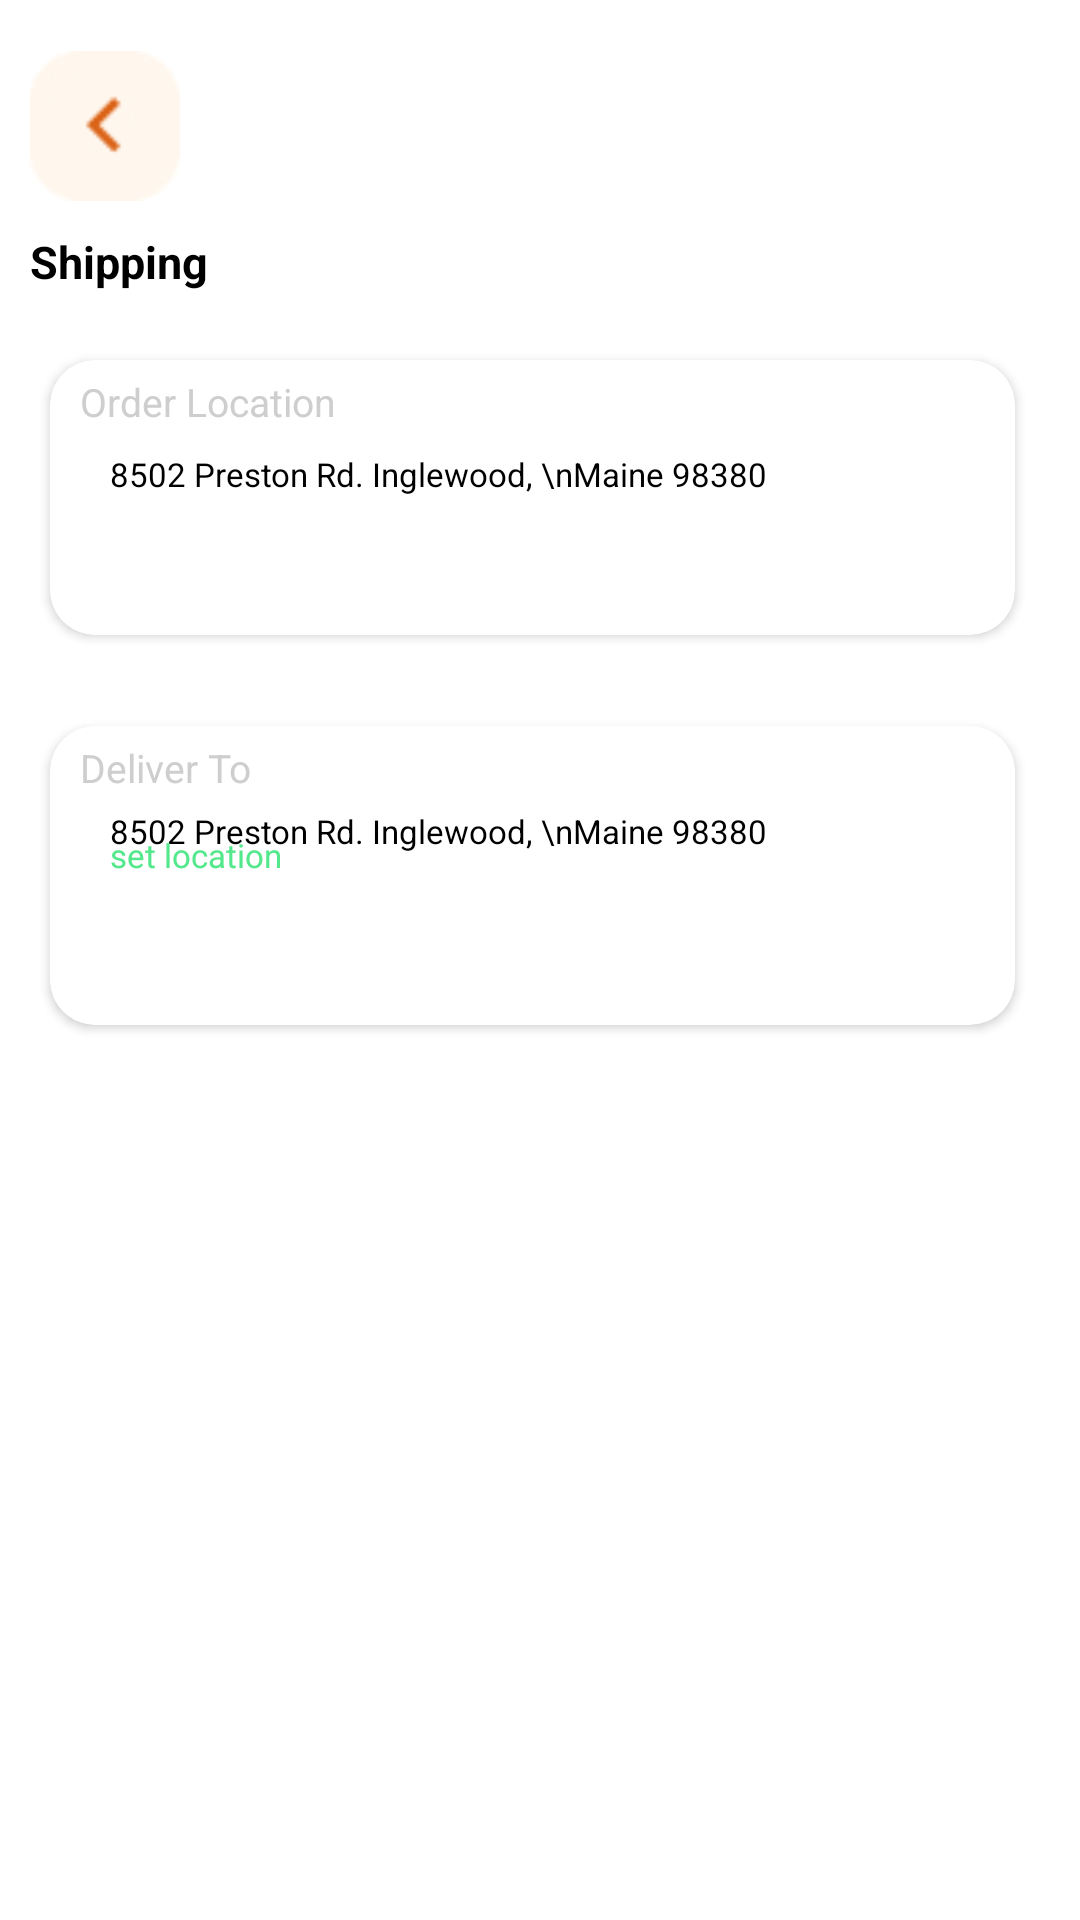

Icon bounding boxes for this 1080 x 1920 phone screenshot, format (x1, y1, x2, y2):
iconback: (30, 51, 180, 201)
